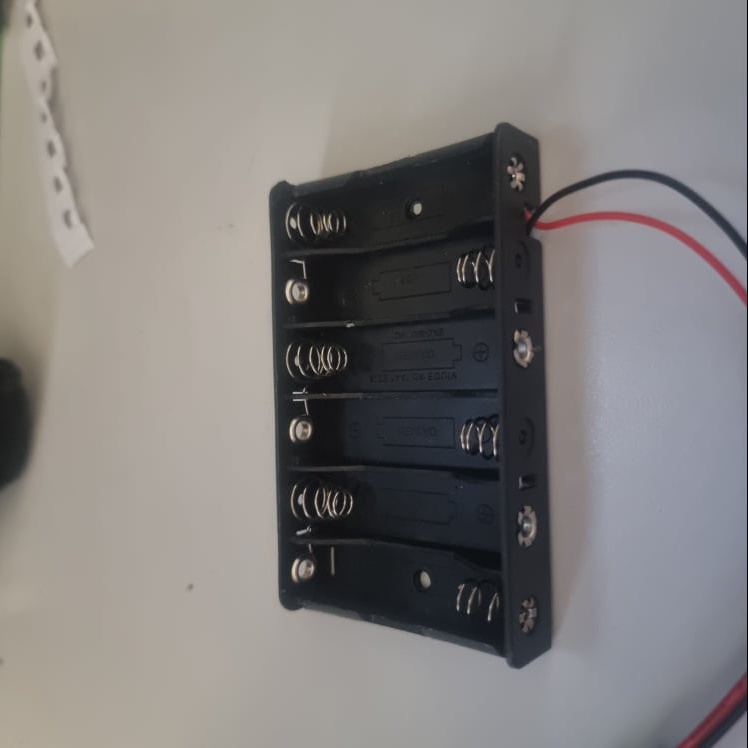BATTERY BOX: (269, 119, 548, 668)
